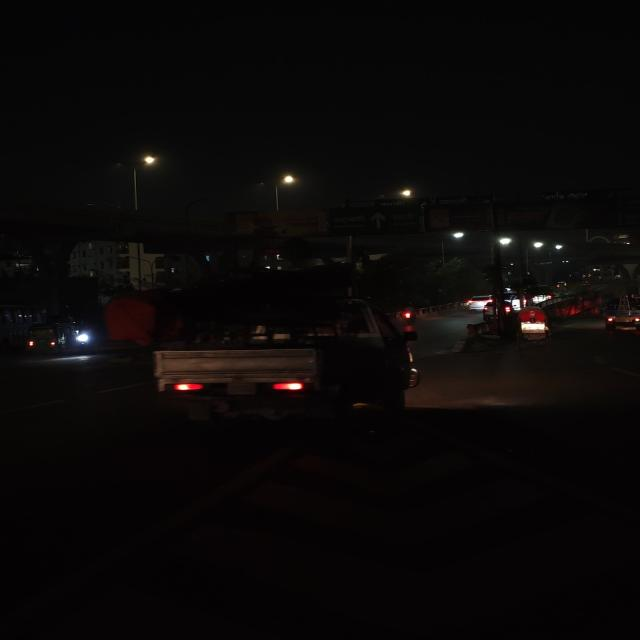car: (482, 300, 515, 317), (464, 295, 492, 311)
cng: (21, 316, 96, 356)
motorcycle: (393, 302, 423, 328)
pickup_van: (142, 284, 423, 428), (600, 298, 640, 334)
rickshaw: (512, 307, 557, 343)
